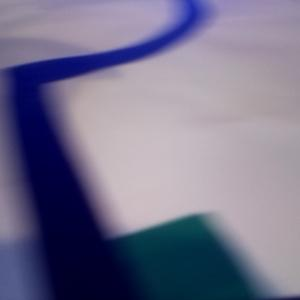top_right: (54, 217, 258, 300)
